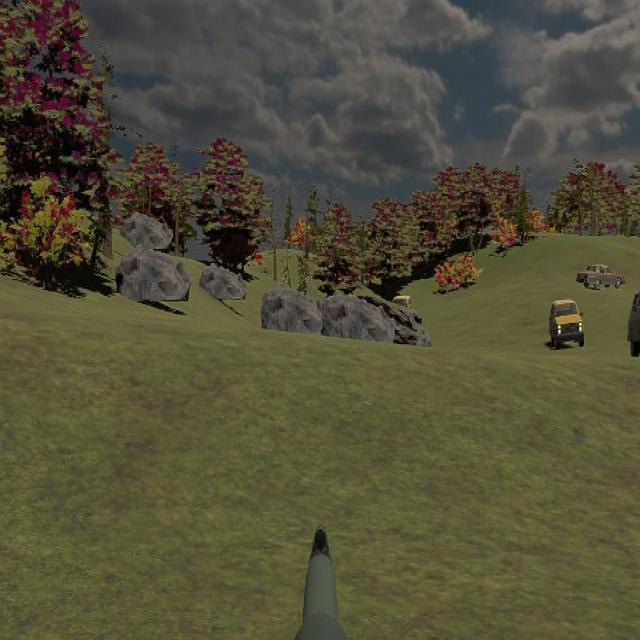car: (549, 298, 585, 350), (576, 263, 626, 291), (627, 282, 640, 362)
